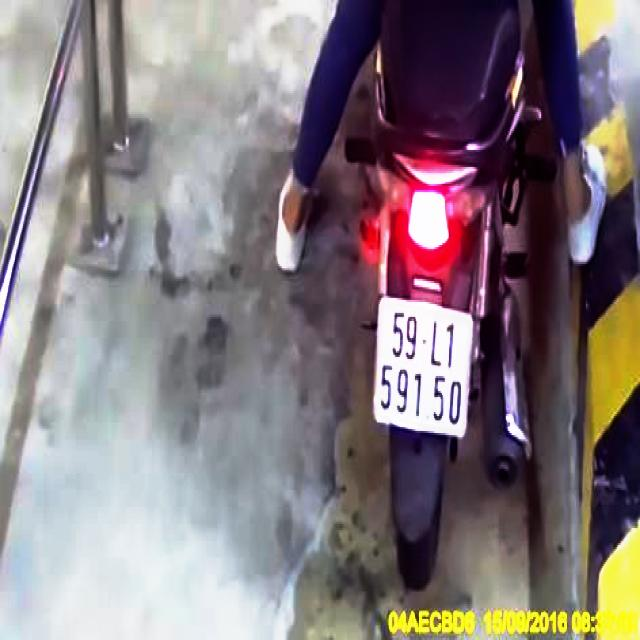license_plate: (372, 300, 477, 440)
